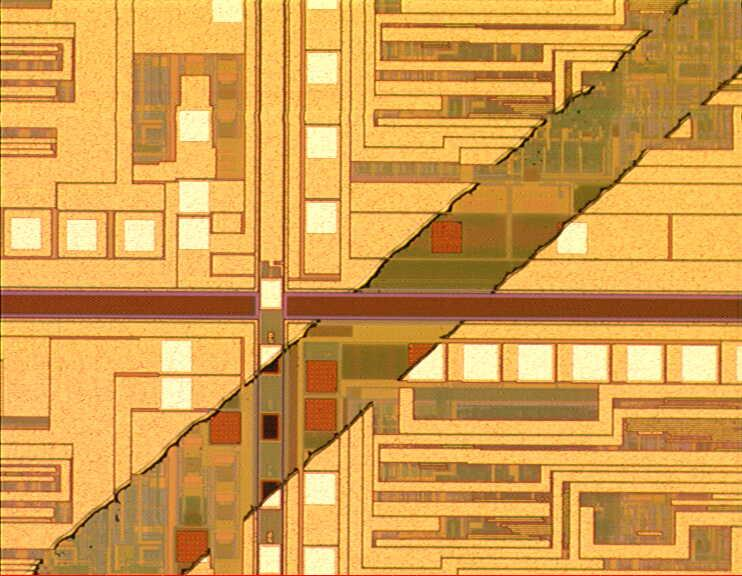BLOCK ETCH: (14, 1, 742, 576)
